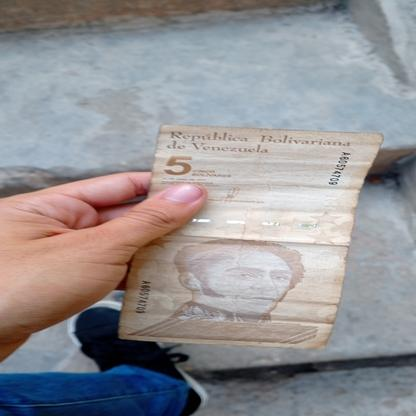five-front-vef: (117, 124, 383, 350)
